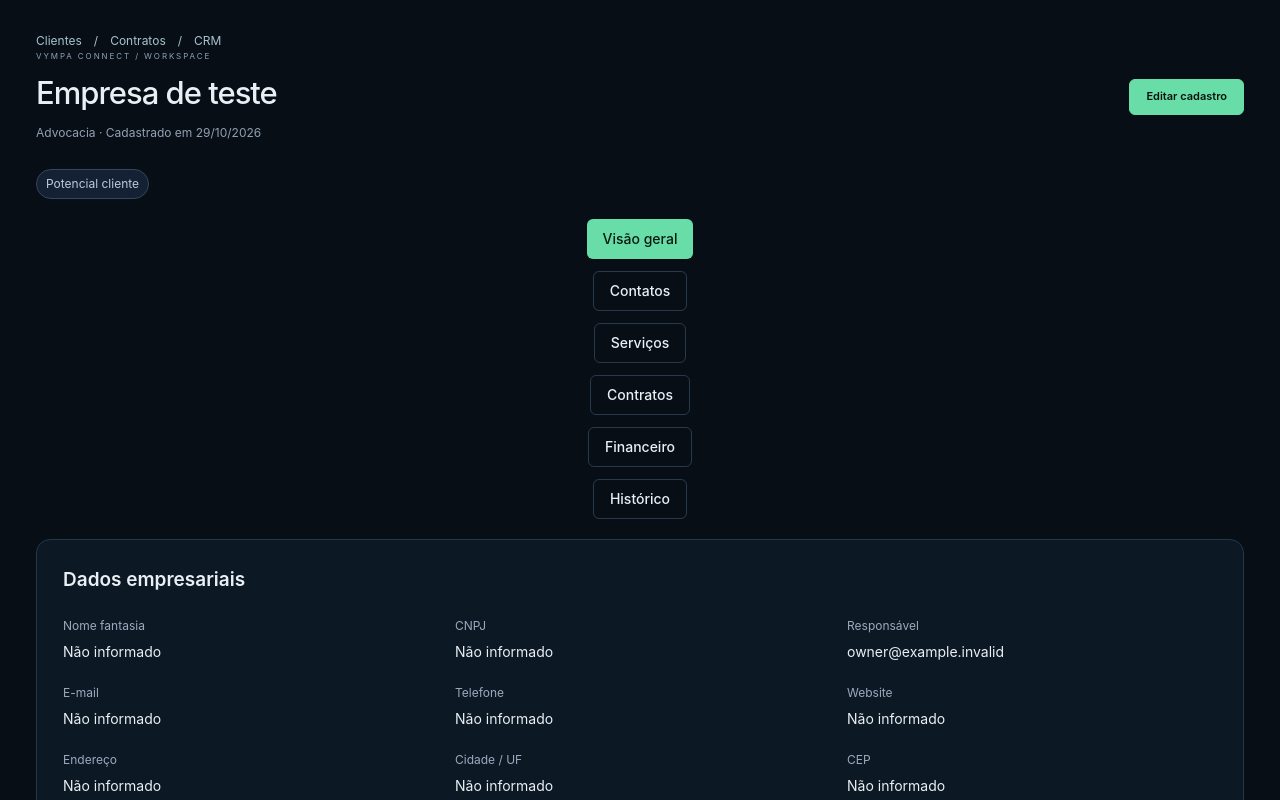
Test: Clientes e contratos › mostra estado vazio de contatos e abre cadastro profissional
Expected: the heading "Empresa de teste" is shown, x1=36 y1=74 x2=277 y2=113
Click the button "Contatos" at (640, 291), box x1=593 y1=271 x2=687 y2=311
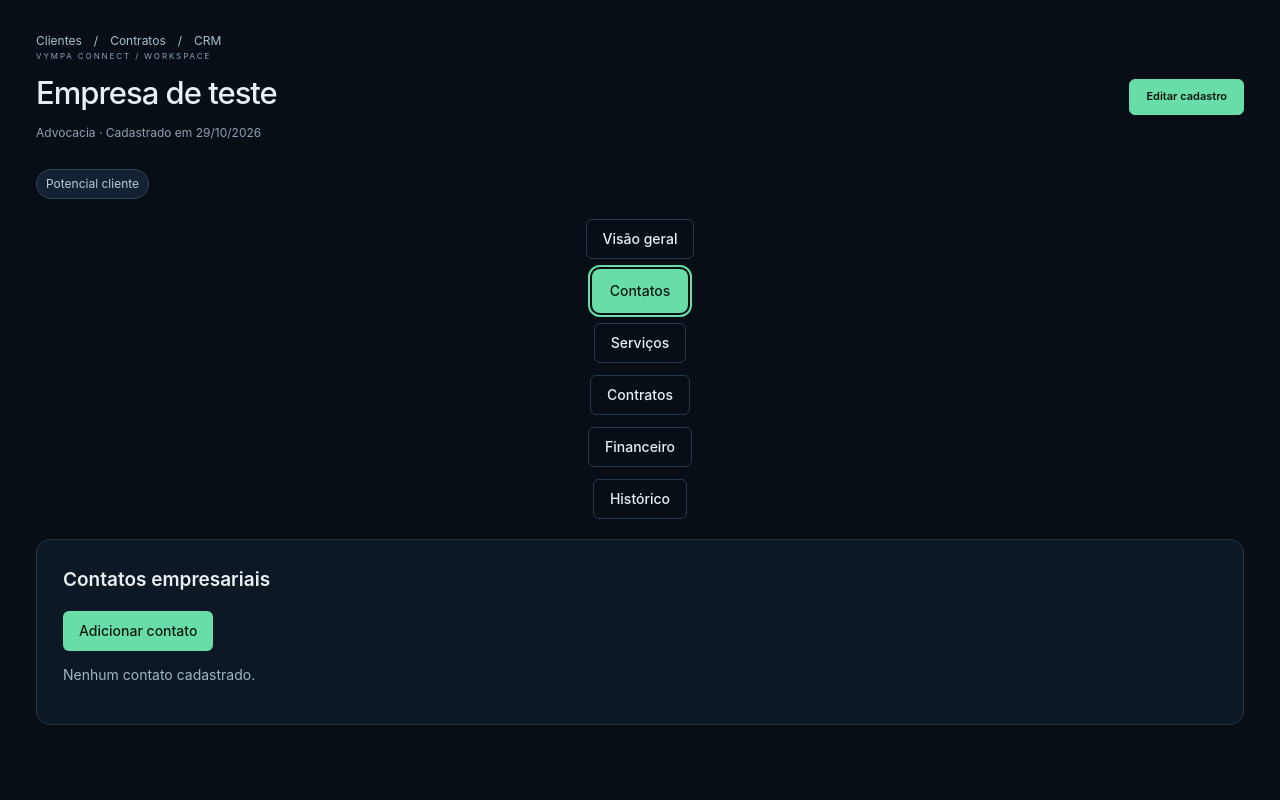
Now the text "Nenhum contato cadastrado." is shown, box x1=63 y1=666 x2=255 y2=683
Click the button "Adicionar contato" at (138, 631), box x1=63 y1=611 x2=213 y2=651
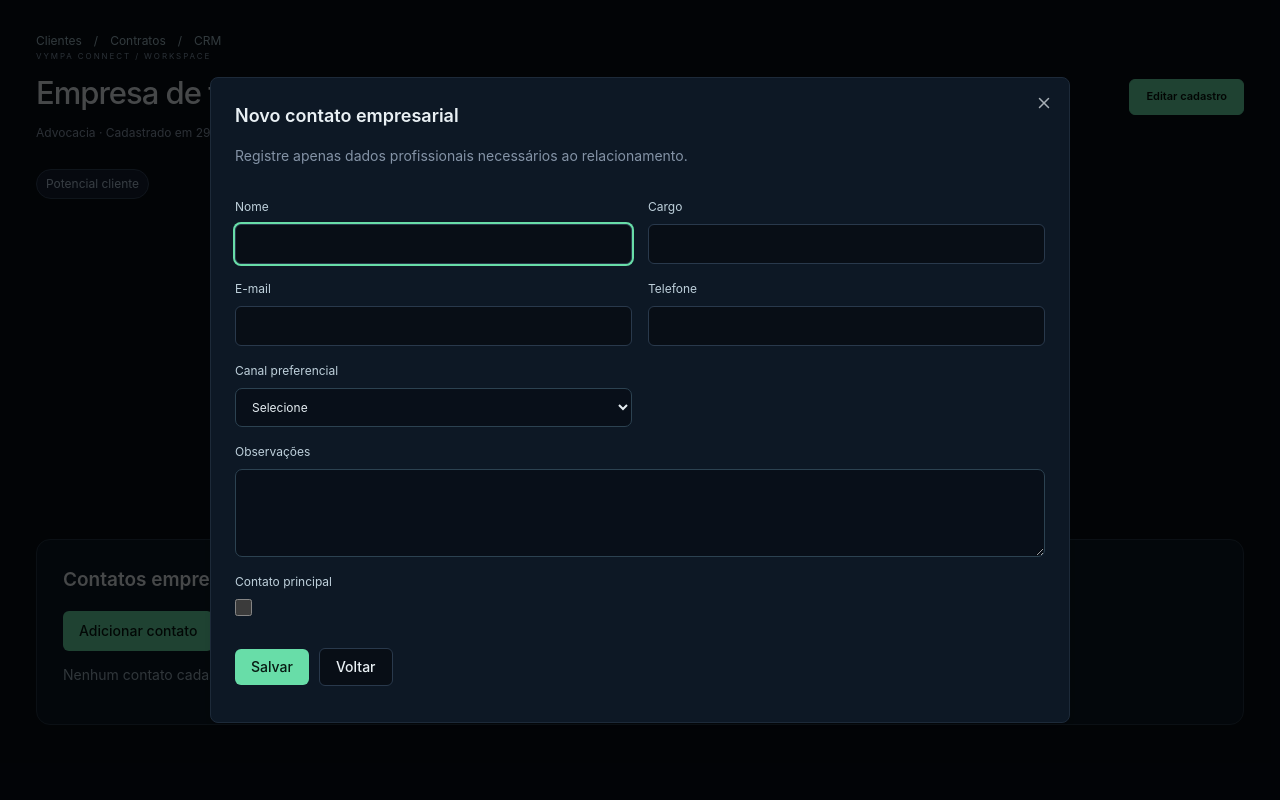
Now the text "Registre apenas dados profissionais necessários ao relacionamento." is shown, box x1=235 y1=147 x2=688 y2=164
